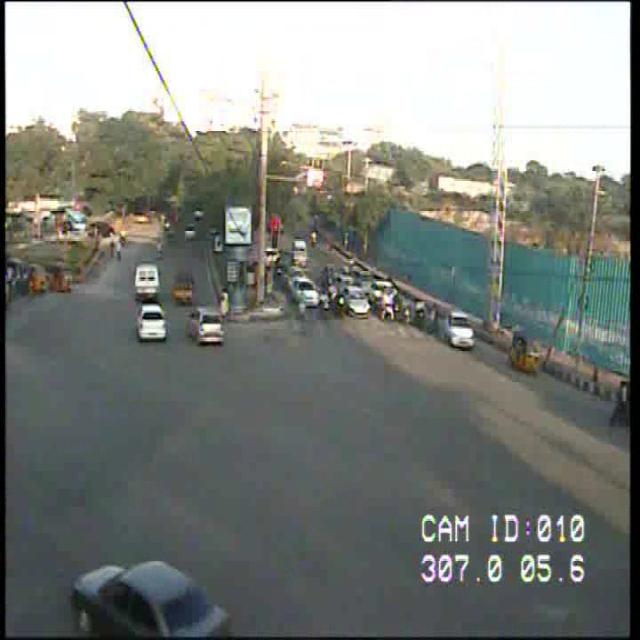noaccident: (99, 170, 548, 495)
